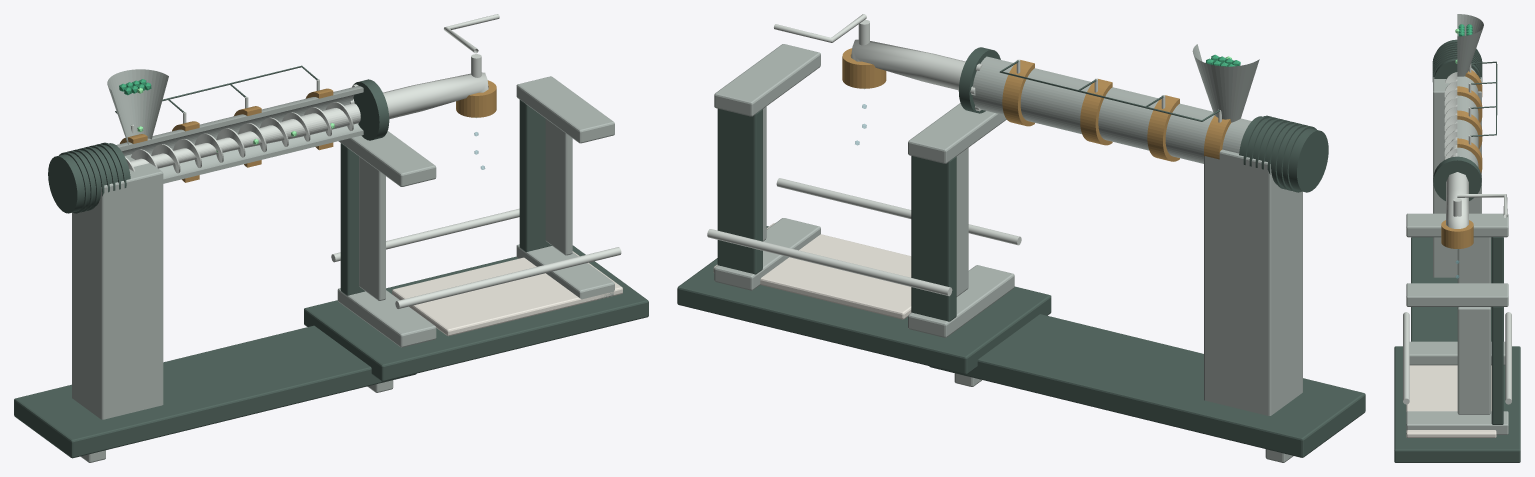
File: blowmolding-motion.glb
The picture shows the model from 3 angles, left to right: view 1: azimuth 30°, elevation 25°; view 2: azimuth 150°, elevation 25°; view 3: azimuth 270°, elevation 25°; orthographic projection. The views are drawn at different scales.
Visible parts, largest first — view 1: GearboxPedestal, DriveBed, ClampBed, BottleTray, BarrelCutaway, MoldRear.001, CavitySide, MoldRail.003, CavitySide.001, DriveMotor, ScrewA_core, MoldRail (+10 smaller); view 2: GearboxPedestal, DriveBed, ClampBed, BarrelCutaway, BottleTray, MoldRear, MoldRear.001, MoldRail.003, DriveMotor, MoldRail.001, ExtrusionHeadAdapter, MoldRail (+11 smaller); view 3: ClampBed, CavitySide.001, BottleTray, DriveBed, GearboxPedestal, MoldRail.003, MoldRail.001, MoldRail.002, MoldRear.001, CavitySide, MoldRail, ScreenFlange (+16 smaller).
Part boxes in pixels (box(x1,y1,x2,y2)): GearboxPedestal: box(72, 154, 163, 419); DriveBed: box(14, 325, 416, 458); ClampBed: box(304, 245, 648, 381); BottleTray: box(392, 251, 622, 335); BarrelCutaway: box(116, 86, 363, 183); MoldRear.001: box(519, 99, 551, 251); CavitySide: box(359, 156, 385, 300); MoldRail.003: box(516, 76, 614, 143); CavitySide.001: box(545, 119, 572, 255); DriveMotor: box(48, 143, 130, 213); ScrewA_core: box(130, 103, 360, 168); MoldRail: box(337, 288, 436, 347); GearboxPedestal: box(1204, 149, 1302, 415); DriveBed: box(929, 314, 1365, 457); ClampBed: box(677, 226, 1051, 374); BarrelCutaway: box(972, 56, 1251, 163); BottleTray: box(713, 223, 911, 319); MoldRear: box(911, 156, 956, 321); MoldRear.001: box(717, 108, 762, 274); MoldRail.003: box(714, 44, 820, 116); DriveMotor: box(1239, 116, 1328, 192); MoldRail.001: box(908, 103, 1006, 163); ExtrusionHeadAdapter: box(851, 39, 965, 90); MoldRail: box(908, 265, 1014, 337); ClampBed: box(1394, 346, 1520, 462); CavitySide.001: box(1457, 307, 1490, 414); BottleTray: box(1406, 365, 1496, 437); DriveBed: box(1411, 237, 1503, 341); GearboxPedestal: box(1433, 77, 1481, 277); MoldRail.003: box(1406, 283, 1508, 306); MoldRail.001: box(1406, 213, 1508, 237); MoldRail.002: box(1406, 411, 1508, 434); MoldRear.001: box(1491, 306, 1503, 424); CavitySide: box(1457, 237, 1490, 283); MoldRail: box(1409, 341, 1505, 365); ScreenFlange: box(1433, 156, 1481, 200).
Bounding box in the file's own units: 8.7 × 5.02 × 2.1.
